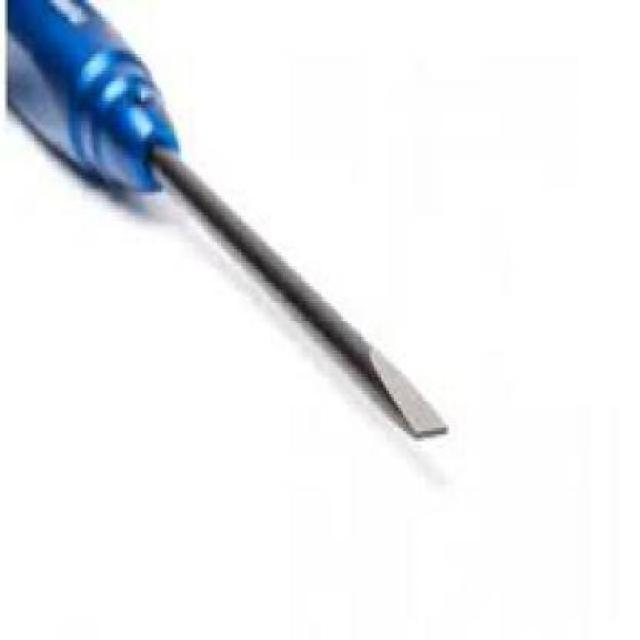screwdriver: (6, 0, 452, 445)
